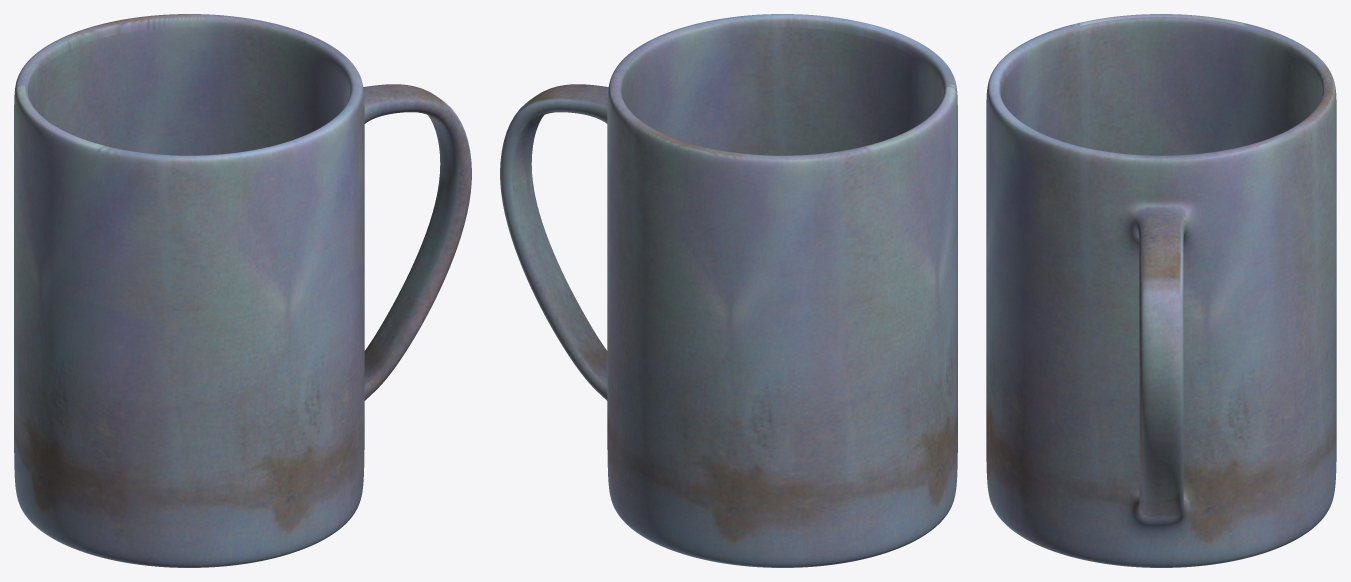
Rendered from dog.glb.
3 renders of one model, left to right at view 1: azimuth 30°, elevation 25°; view 2: azimuth 150°, elevation 25°; view 3: azimuth 270°, elevation 25°, orthographic.
Visible parts, largest first — view 1: cup1; view 2: cup1; view 3: cup1.
Part boxes in pixels (x1,y1,x2,y2): cup1: [14, 14, 471, 567]; cup1: [500, 14, 957, 567]; cup1: [986, 14, 1336, 567].
Size of the model in its own units: 16.49 by 15.17 by 11.71.
Materials: 1 (1 with a texture image).
